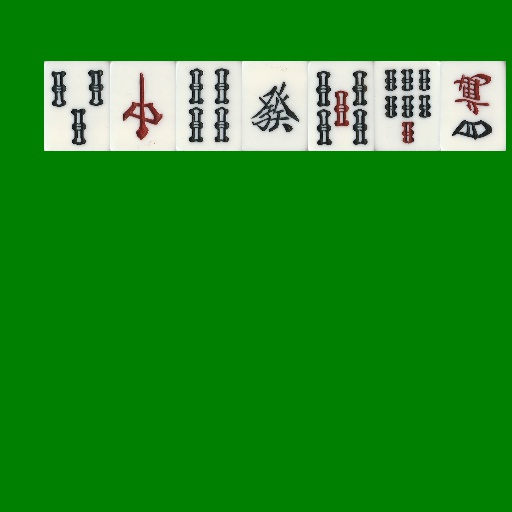3s: (44, 61, 110, 151)
4m: (440, 61, 506, 151)
4s: (176, 61, 242, 151)
5s: (308, 61, 374, 151)
7s: (374, 61, 440, 151)
hatsu: (242, 61, 308, 151)
tyun: (110, 61, 176, 151)
